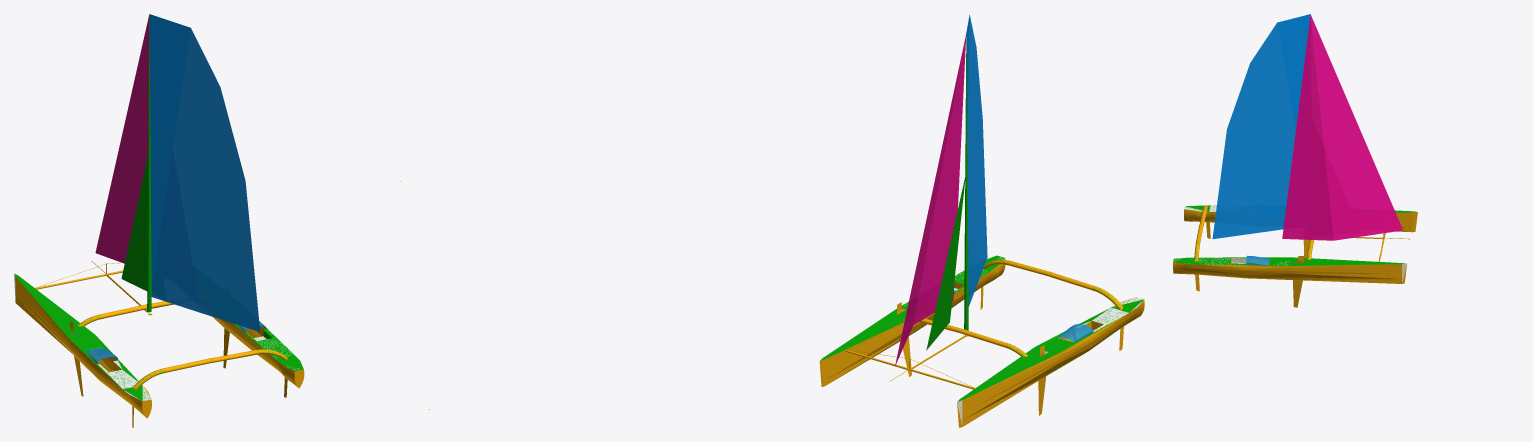
The model's file is genois_babord_catamaran.dae.
3 renders of one model, left to right at view 1: azimuth 30°, elevation 25°; view 2: azimuth 150°, elevation 25°; view 3: azimuth 270°, elevation 25°, orthographic. The views are drawn at different scales.
Visible parts, largest first — view 1: SketchUp (×10); view 2: SketchUp (×10); view 3: SketchUp (×6).
Part boxes in pixels (box(x1,y1,x2,y2)): SketchUp (×10): box(14, 14, 304, 418); SketchUp (×10): box(819, 15, 1144, 427); SketchUp (×6): box(1173, 14, 1417, 283).
Bounding box in the file's own units: 188600 × 156303 × 135617.
14 materials, 5 textured.
